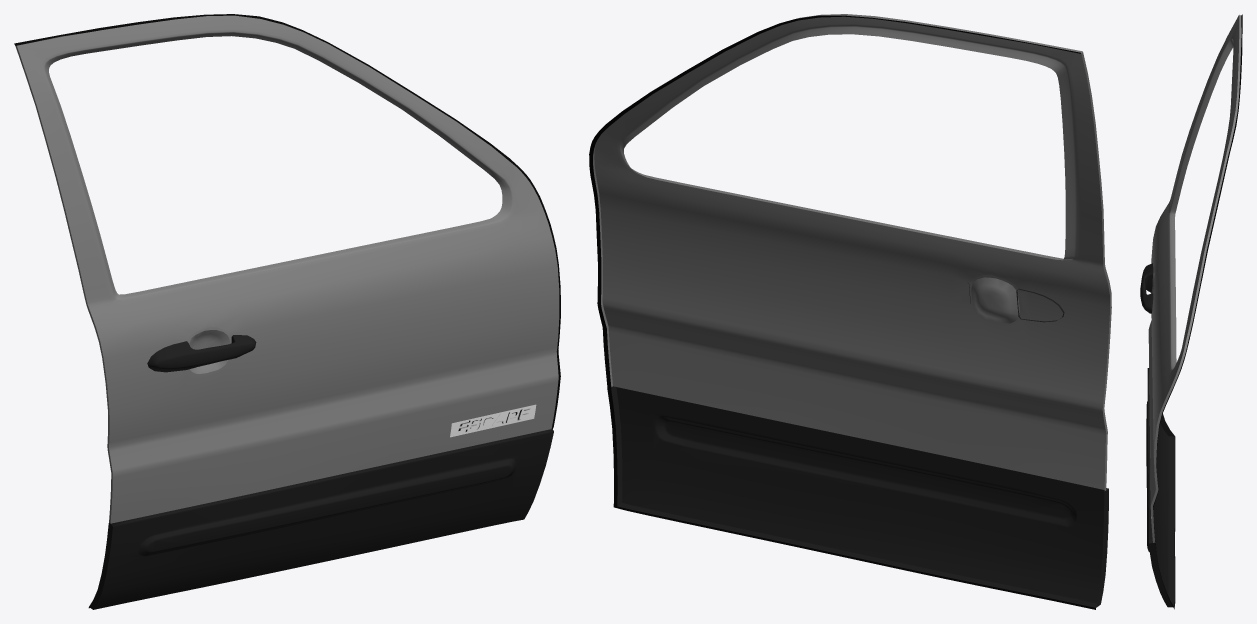
3 views of the same model, side by side, from view 1: azimuth 30°, elevation 25°; view 2: azimuth 150°, elevation 25°; view 3: azimuth 270°, elevation 25° (orthographic). The views are drawn at different scales.
Parts seen in each view (by area): view 1: P710_281B_R_P710_281B_R_2_DaS, P710_281B_R_1_D_P710_281B_R, P710_281B_R_P710_281B_R_4_D, P710_281B_R_1_D_P710_281B_R_E, P710_281B_R_P710_281B_R_2_DaS_E, P710_281B_R_P710_281B_R_3_D; view 2: P710_281B_R_P710_281B_R_2_DaS, P710_281B_R_1_D_P710_281B_R, P710_281B_R_P710_281B_R_4_D, P710_281B_R_1_D_P710_281B_R_E, P710_281B_R_P710_281B_R_2_DaS_E; view 3: P710_281B_R_P710_281B_R_2_DaS, P710_281B_R_1_D_P710_281B_R, P710_281B_R_1_D_P710_281B_R_E, P710_281B_R_P710_281B_R_2_DaS_E, P710_281B_R_P710_281B_R_4_D.
Boxes of the visible parts, x1,y1,x2,y2 form: P710_281B_R_P710_281B_R_2_DaS: (17,15,559,523); P710_281B_R_1_D_P710_281B_R: (93,335,553,609); P710_281B_R_P710_281B_R_4_D: (14,14,560,608); P710_281B_R_1_D_P710_281B_R_E: (89,429,553,609); P710_281B_R_P710_281B_R_2_DaS_E: (15,33,231,523); P710_281B_R_P710_281B_R_3_D: (450,404,536,437); P710_281B_R_P710_281B_R_2_DaS: (594,16,1109,489); P710_281B_R_1_D_P710_281B_R: (616,282,1104,603); P710_281B_R_P710_281B_R_4_D: (589,15,1095,609); P710_281B_R_1_D_P710_281B_R_E: (611,386,1108,607); P710_281B_R_P710_281B_R_2_DaS_E: (593,14,1111,490); P710_281B_R_P710_281B_R_2_DaS: (1148,15,1239,505); P710_281B_R_1_D_P710_281B_R: (1140,263,1168,595); P710_281B_R_1_D_P710_281B_R_E: (1147,368,1174,607); P710_281B_R_P710_281B_R_2_DaS_E: (1150,14,1241,542); P710_281B_R_P710_281B_R_4_D: (1153,14,1242,609).
Bounding box in the file's own units: 140 × 152 × 33.24.
